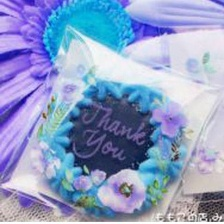snack: (0, 19, 224, 222)
